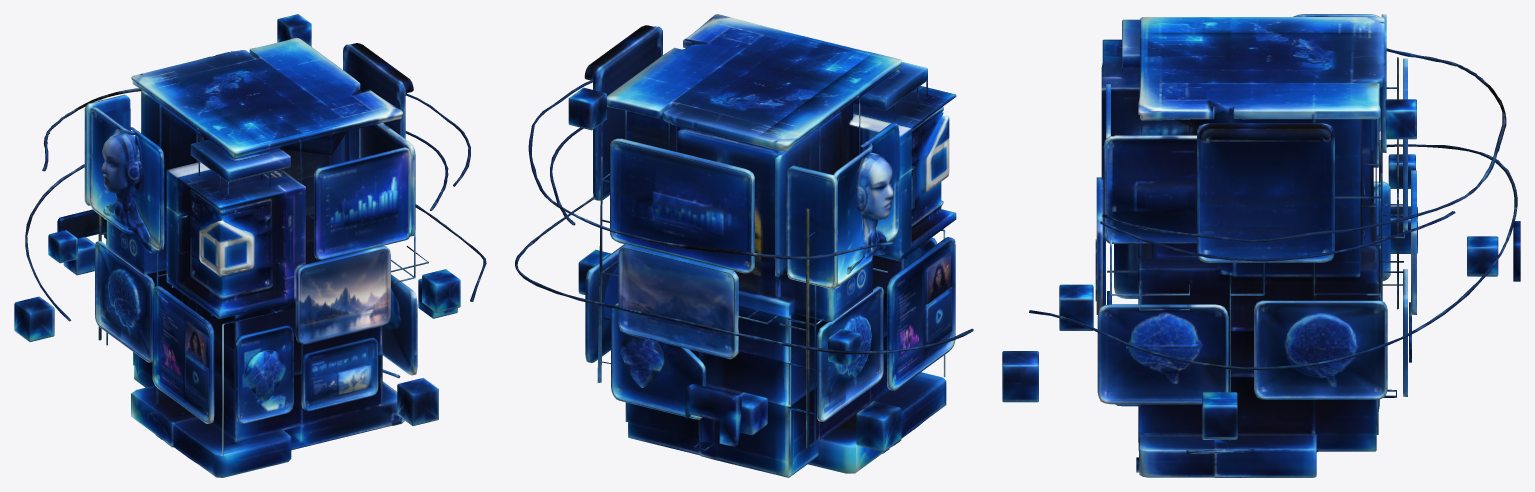
The picture shows the model from 3 angles, left to right: view 1: azimuth 30°, elevation 25°; view 2: azimuth 150°, elevation 25°; view 3: azimuth 270°, elevation 25°; orthographic projection. The views are drawn at different scales.
Visible parts, largest first — view 1: tripo_node_3187b3c3-bbba-4882-91a7-827b83a5e563; view 2: tripo_node_3187b3c3-bbba-4882-91a7-827b83a5e563; view 3: tripo_node_3187b3c3-bbba-4882-91a7-827b83a5e563.
Boxes of the visible parts, left/top/right/bottom form: tripo_node_3187b3c3-bbba-4882-91a7-827b83a5e563: left=14, top=14, right=486, bottom=477; tripo_node_3187b3c3-bbba-4882-91a7-827b83a5e563: left=515, top=14, right=973, bottom=477; tripo_node_3187b3c3-bbba-4882-91a7-827b83a5e563: left=1002, top=14, right=1520, bottom=477.
Bounding box in the file's own units: 0.9586 × 0.7749 × 0.9778.
1 material, 1 textured.
